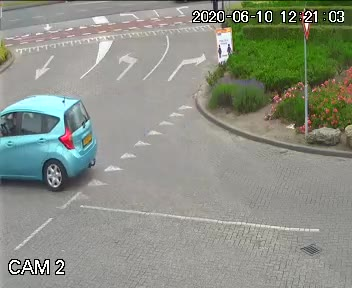car: (0, 80, 108, 197)
